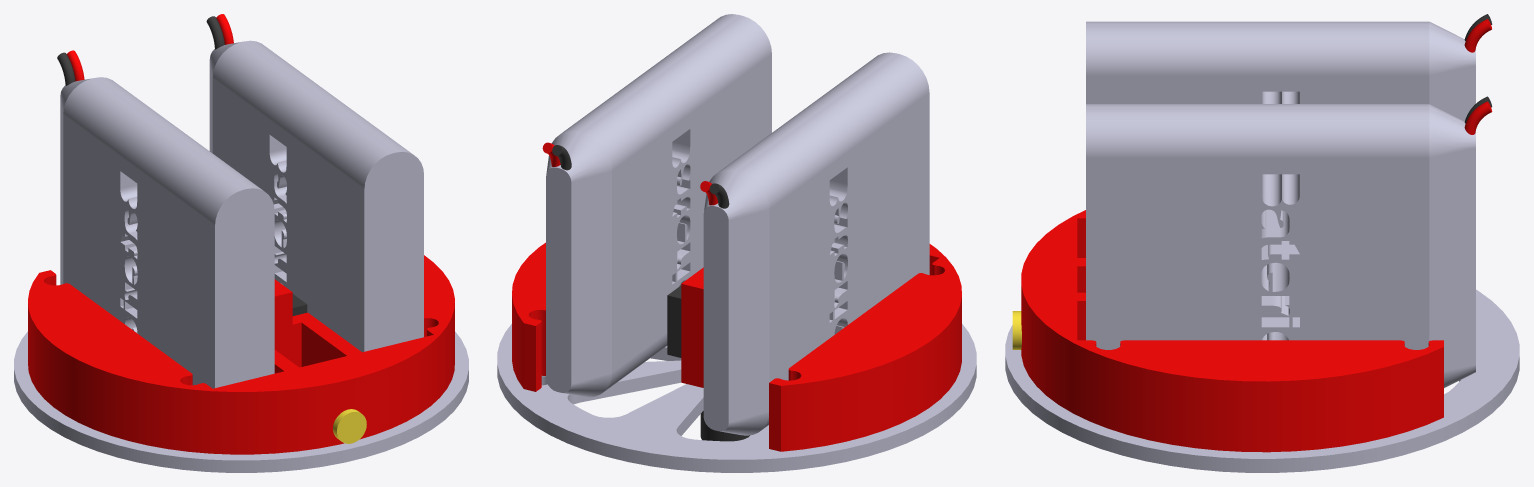
File: cansat 3.0 Battery_Camera.glb
The picture shows the model from 3 angles, left to right: view 1: azimuth 30°, elevation 25°; view 2: azimuth 150°, elevation 25°; view 3: azimuth 270°, elevation 25°; orthographic projection. The views are drawn at different scales.
Visible parts, largest first — view 1: Solid1 (×6); view 2: Solid1 (×7); view 3: Solid1 (×4).
Part boxes in pixels (x1,y1,x2,y2): Solid1 (×6): [14, 40, 468, 472]; Solid1 (×7): [497, 14, 976, 472]; Solid1 (×4): [1005, 21, 1519, 472].
Bounding box in the file's own units: 0.0659 × 0.0534 × 0.0659.
